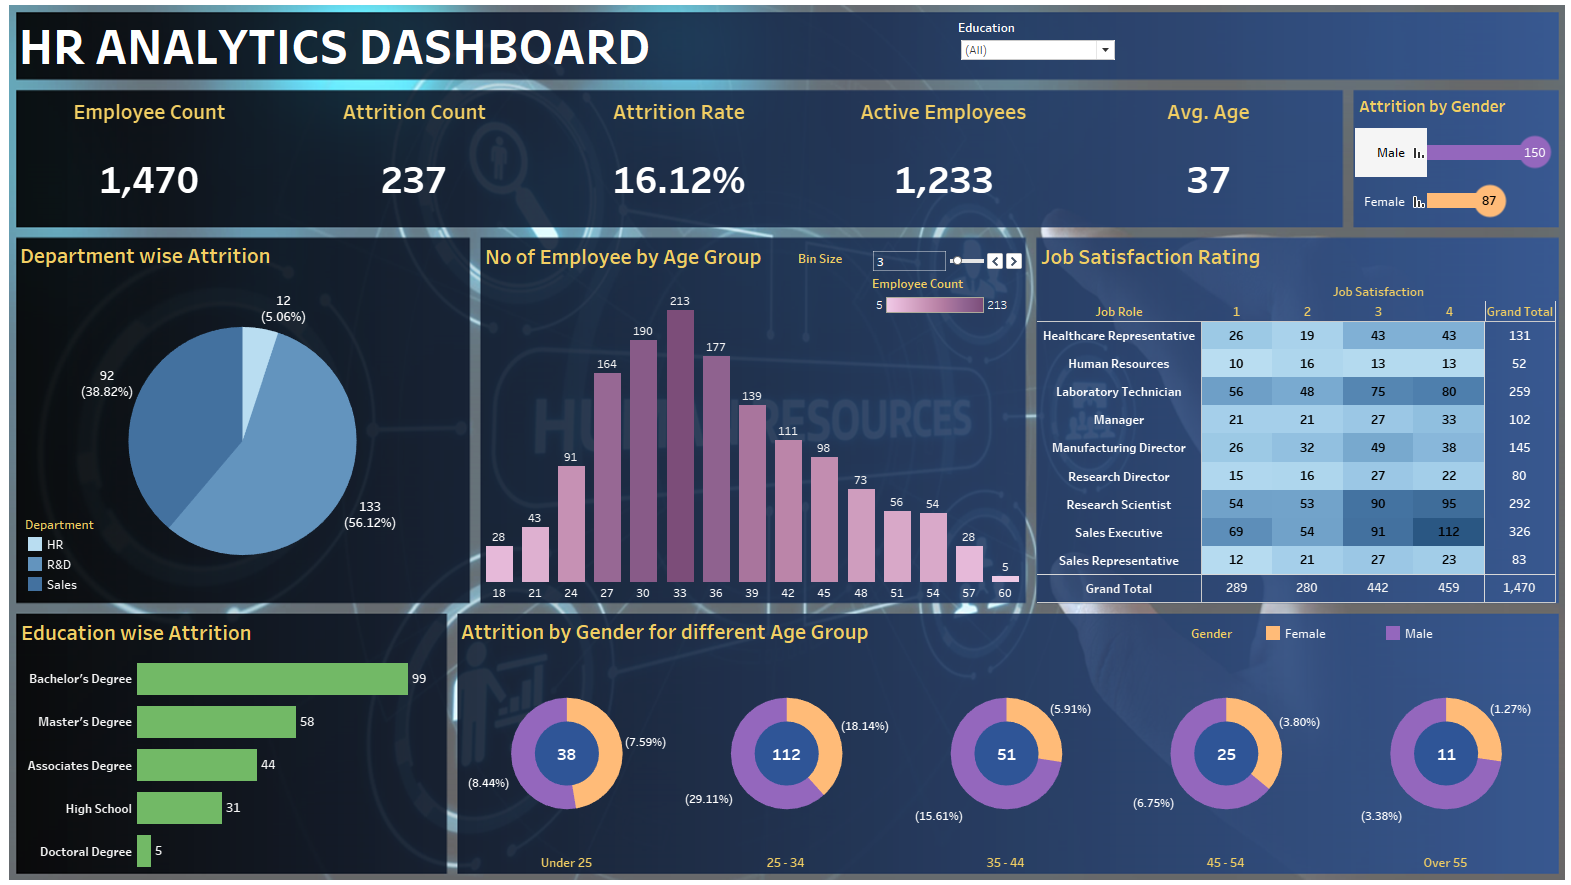

Layout of this report page (visuals, bound fields, positions):
{"tool":"tableau","page":{"name":"HR Analysis","canvas":[1580,900],"ordinal":0},"visuals":[{"type":"image","param":"Image/HR background.png","box":[8,8,1564,884]},{"type":"text","box":[19,25,689,53]},{"type":"filter","title":"Department wise Attrition","param":"[federated.19ygf4n0b4yqfy16ymvqz06w0kzm].[none:Education:nk]","box":[961,26,160,53]},{"type":"worksheet","title":"KPI","mark":"Automatic","box":[20,98,1324,134]},{"type":"worksheet","title":"Attrition by Gender","mark":"Automatic","rows":["Gender"],"cols":["Calculation_1301258855825334274","Calculation_1301258855825334274"],"box":[1358,98,202,134]},{"type":"worksheet","title":"Department wise Attrition","mark":"Pie","box":[19,244,453,365]},{"type":"worksheet","title":"No of Employee by Age Group","mark":"Bar","rows":["Employee Count"],"cols":["Age (bin)"],"box":[484,245,543,364]},{"type":"worksheet","title":"Job Satisfaction Rating","mark":"Square","rows":["Job Role"],"cols":["Job Satisfaction"],"box":[1040,245,520,365]},{"type":"parameter","param":"[Parameters].[Parameter 1]","box":[801,255,227,24]},{"type":"legend","title":"No of Employee by Age Group","param":"[federated.19ygf4n0b4yqfy16ymvqz06w0kzm].[sum:Employee Count:qk]","box":[875,282,140,48]},{"type":"legend","title":"Department wise Attrition","param":"[federated.19ygf4n0b4yqfy16ymvqz06w0kzm].[none:Department:nk]","box":[28,523,99,78]},{"type":"worksheet","title":"Attrition by Gender for different Age Group","mark":"Pie","rows":["Calculation_1301258855931207690","Calculation_1301258855931207690"],"cols":["CF_age band"],"box":[460,620,1100,260]},{"type":"worksheet","title":"Education wise Attrition","mark":"Automatic","rows":["Education"],"cols":["Calculation_1301258855825334274"],"box":[20,621,429,259]},{"type":"legend","title":"Attrition by Gender for different Age Group","param":"[federated.19ygf4n0b4yqfy16ymvqz06w0kzm].[none:Gender:nk]","box":[1194,630,319,26]}]}

Visuals, with their boxes in screenshot pixels (x1, y1, x2, y2), scaled from the page's 1580x900 canvas onto the 1571x885 screenshot:
image: detection(8, 8, 1563, 877)
text: detection(19, 25, 704, 77)
"Department wise Attrition" filter: detection(956, 26, 1115, 78)
"KPI" worksheet: detection(20, 96, 1336, 228)
"Attrition by Gender" worksheet: detection(1350, 96, 1551, 228)
"Department wise Attrition" worksheet (Pie marks): detection(19, 240, 469, 599)
"No of Employee by Age Group" worksheet (Bar marks): detection(481, 241, 1021, 599)
"Job Satisfaction Rating" worksheet (Square marks): detection(1034, 241, 1551, 600)
parameter: detection(796, 251, 1022, 274)
"No of Employee by Age Group" legend: detection(870, 277, 1009, 324)
"Department wise Attrition" legend: detection(28, 514, 126, 591)
"Attrition by Gender for different Age Group" worksheet (Pie marks): detection(457, 610, 1551, 865)
"Education wise Attrition" worksheet: detection(20, 611, 446, 865)
"Attrition by Gender for different Age Group" legend: detection(1187, 620, 1504, 645)
